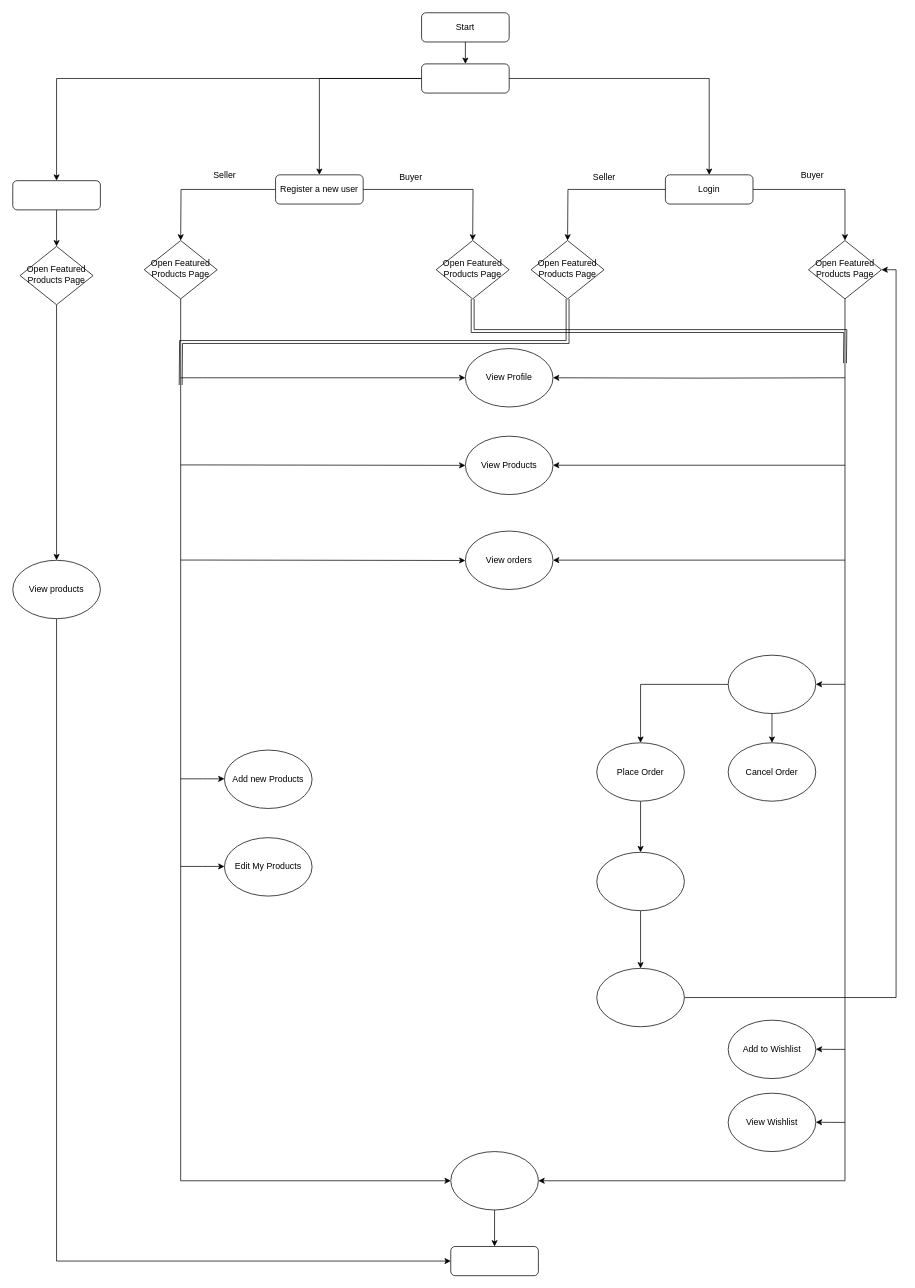
The diagram is 915 pixels wide and 1288 high, and some of its shapes have lost their labels. The box of each missing label's shape, as (x1, y1, x2, y2) in pixels:
Add product to Cart: (727, 654, 816, 714)
Add/Confirm Address: (596, 852, 684, 911)
Continue as guest: (12, 180, 100, 210)
End: (450, 1246, 538, 1276)
Homepage: (421, 63, 509, 93)
Logout: (450, 1151, 538, 1210)
Payment: (596, 968, 684, 1027)
